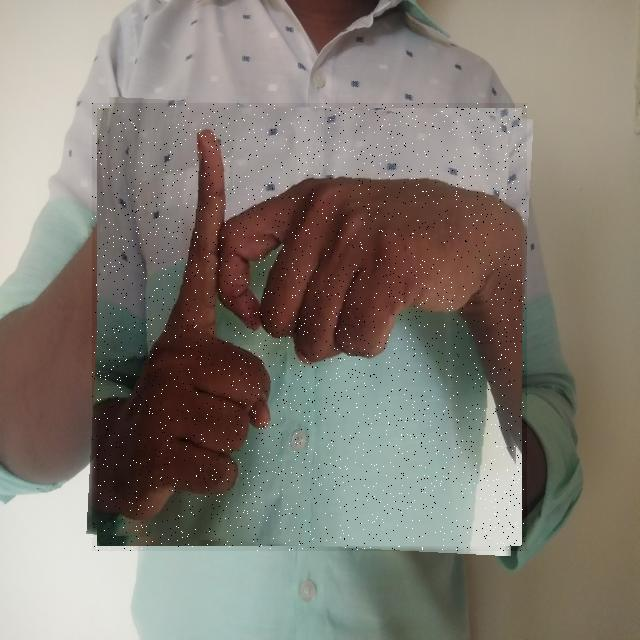K: (92, 103, 527, 551)
